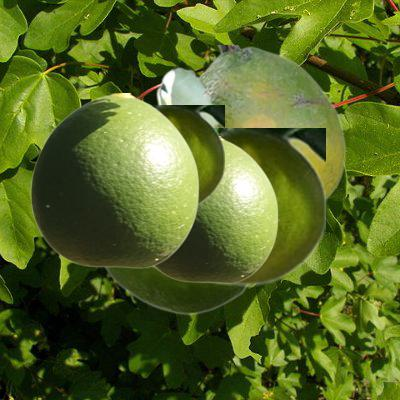dalandan: (155, 45, 345, 201), (30, 93, 198, 267), (147, 128, 324, 285), (154, 136, 277, 282), (153, 105, 223, 208), (104, 268, 248, 314)
